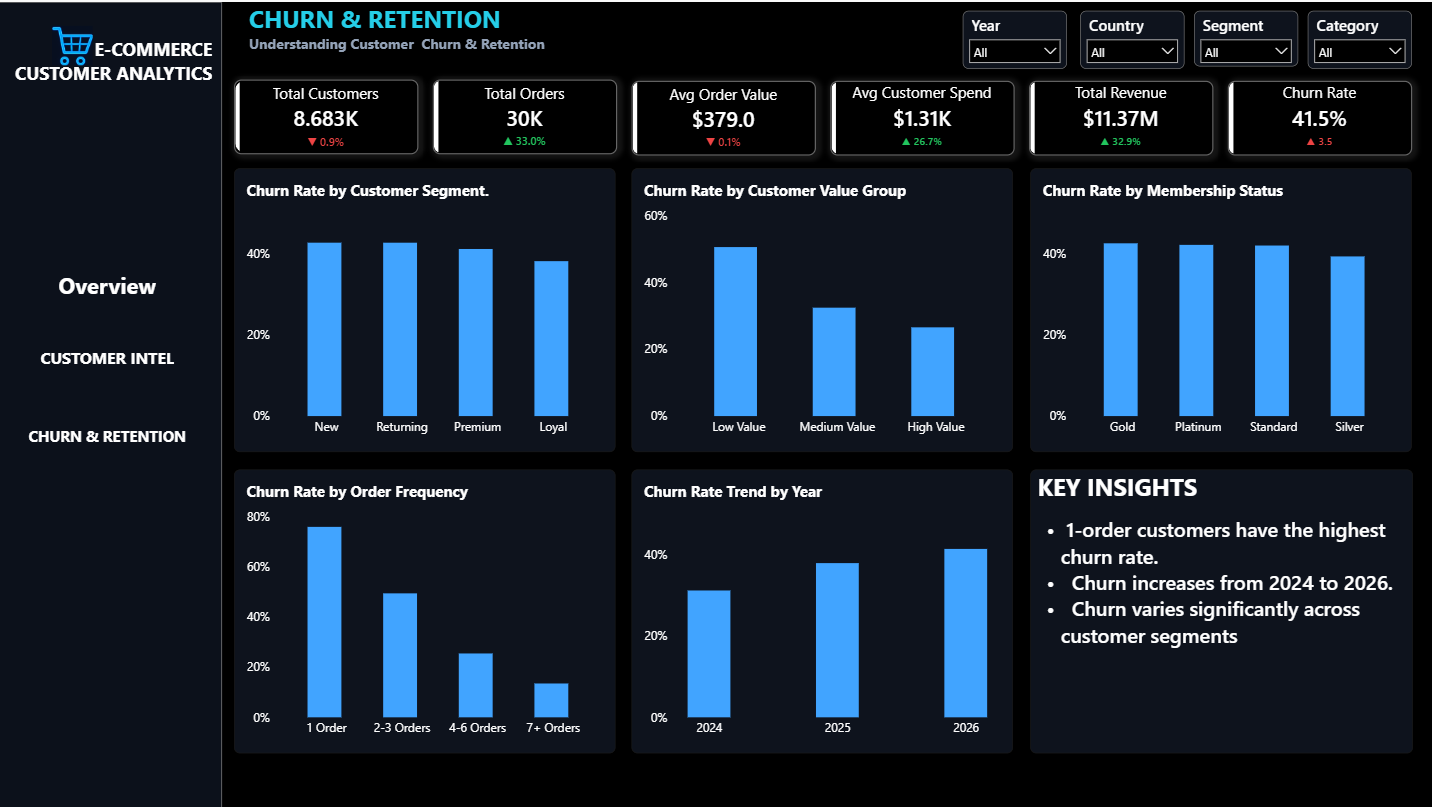

Layout of this report page (visuals, bound fields, positions):
{"tool":"powerbi","page":{"name":"Churn & Rentention","canvas":[1920,1080],"ordinal":2},"visuals":[{"type":"shape","box":[0,0,298,1080],"z":0},{"type":"textbox","box":[334,0,447.2,92.5],"z":1000},{"type":"slicer","fields":{"Values":["E-COM.COUNTRY"]},"box":[1444.1,10.9,139.3,77.8],"z":2000},{"type":"slicer","fields":{"Values":["Calendar.Date.Variation.Date Hierarchy.Year"]},"box":[1286.7,10.9,139.3,77.8],"z":3000},{"type":"slicer","fields":{"Values":["E-COM.PRODUCT_CATEGORY"]},"box":[1748.1,10.9,139.3,77.8],"z":4000},{"type":"slicer","fields":{"Values":["E-COM.CUSTOMER_SEGMENT"]},"box":[1596.1,10.9,139.3,74.2],"z":5000},{"type":"cardVisual","fields":{"Data":["E-COM.Total Customers"]},"box":[313.2,103.8,246,100],"z":6000},{"type":"cardVisual","fields":{"Data":["E-COM.Total Orders"]},"box":[578.9,104.2,246,100],"z":7000},{"type":"cardVisual","fields":{"Data":["Sum(E-COM.ORDER_AMOUNT)"]},"box":[1375.8,105.3,246,100],"z":8000},{"type":"cardVisual","fields":{"Data":["E-COM.Average Order Value"]},"box":[844.5,104.5,246,100],"z":9000},{"type":"cardVisual","fields":{"Data":["E-COM.Churn Rate"]},"box":[1641.5,105.7,246,100],"z":10000},{"type":"actionButton","box":[26.4,435.8,235.8,81.1],"z":11000},{"type":"actionButton","box":[26.4,534,235.8,90.6],"z":12000},{"type":"clusteredColumnChart","title":"Churn Rate by Customer Segment.","fields":{"Category":["E-COM.Latest Customer Segment"],"Y":["E-COM.Churn Rate"]},"box":[313.2,222.6,509.4,379.2],"z":13000},{"type":"clusteredColumnChart","title":"Churn Rate by Membership Status","fields":{"Category":["E-COM.Latest Membership Status"],"Y":["E-COM.Churn Rate"]},"box":[1377.4,222.6,509.4,379.2],"z":14000},{"type":"clusteredColumnChart","title":"Churn Rate Trend by Year","fields":{"Category":["Calendar.Year"],"Y":["CLV Groups.Churn Rate Trend"]},"box":[845.3,624.5,509.4,379.2],"z":15000},{"type":"clusteredColumnChart","title":"Churn Rate by Order Frequency","fields":{"Category":["Purchase Frequency Bucket1.Frequency"],"Y":["CLV Groups.Churn Rate by Purchase Frequency"]},"box":[313.2,624.5,509.4,379.2],"z":16000},{"type":"cardVisual","fields":{"Data":["E-COM.Avg Customer Lifetime Value"]},"box":[1110.2,104.9,246,100],"z":17000},{"type":"clusteredColumnChart","title":"Churn Rate by Customer Value Group","fields":{"Category":["E-COM.Customer Value Group1"],"Y":["E-COM.Churn Rate"]},"box":[845.3,222.6,509.4,379.2],"z":18000},{"type":"textbox","box":[1377.4,624.5,511.3,379.2],"z":19000},{"type":"textbox","box":[0,47.2,284.9,120],"z":20000},{"type":"image","box":[47.2,32.1,101.9,52.8],"z":21000},{"type":"actionButton","box":[26.4,337.7,235.8,83],"z":22000}]}

Visuals, with their boxes in screenshot pixels (x1, y1, x2, y2), scaled from the page's 1920x1080 canvas onto the 1432x807 screenshot:
shape: 0,0,222,806
textbox: 249,0,583,69
slicer - E-COM.COUNTRY: 1077,8,1181,66
slicer - Calendar.Date.Variation.Date Hierarchy.Year: 960,8,1064,66
slicer - E-COM.PRODUCT_CATEGORY: 1304,8,1408,66
slicer - E-COM.CUSTOMER_SEGMENT: 1190,8,1294,64
cardVisual - E-COM.Total Customers: 234,78,417,152
cardVisual - E-COM.Total Orders: 432,78,615,153
cardVisual - Sum(E-COM.ORDER_AMOUNT): 1026,79,1210,153
cardVisual - E-COM.Average Order Value: 630,78,813,153
cardVisual - E-COM.Churn Rate: 1224,79,1408,154
actionButton: 20,326,196,386
actionButton: 20,399,196,467
"Churn Rate by Customer Segment." clusteredColumnChart: 234,166,614,450
"Churn Rate by Membership Status" clusteredColumnChart: 1027,166,1407,450
"Churn Rate Trend by Year" clusteredColumnChart: 630,467,1010,750
"Churn Rate by Order Frequency" clusteredColumnChart: 234,467,614,750
cardVisual - E-COM.Avg Customer Lifetime Value: 828,78,1011,153
"Churn Rate by Customer Value Group" clusteredColumnChart: 630,166,1010,450
textbox: 1027,467,1409,750
textbox: 0,35,212,125
image: 35,24,111,63
actionButton: 20,252,196,314
